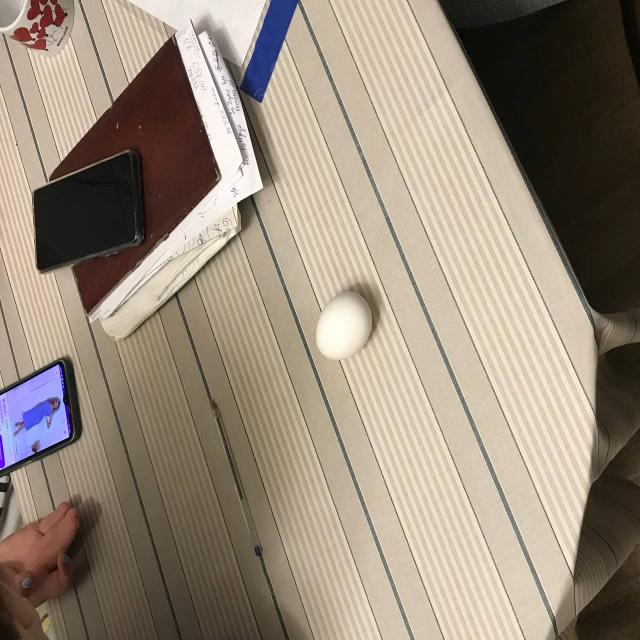egg: (316, 289, 374, 362)
